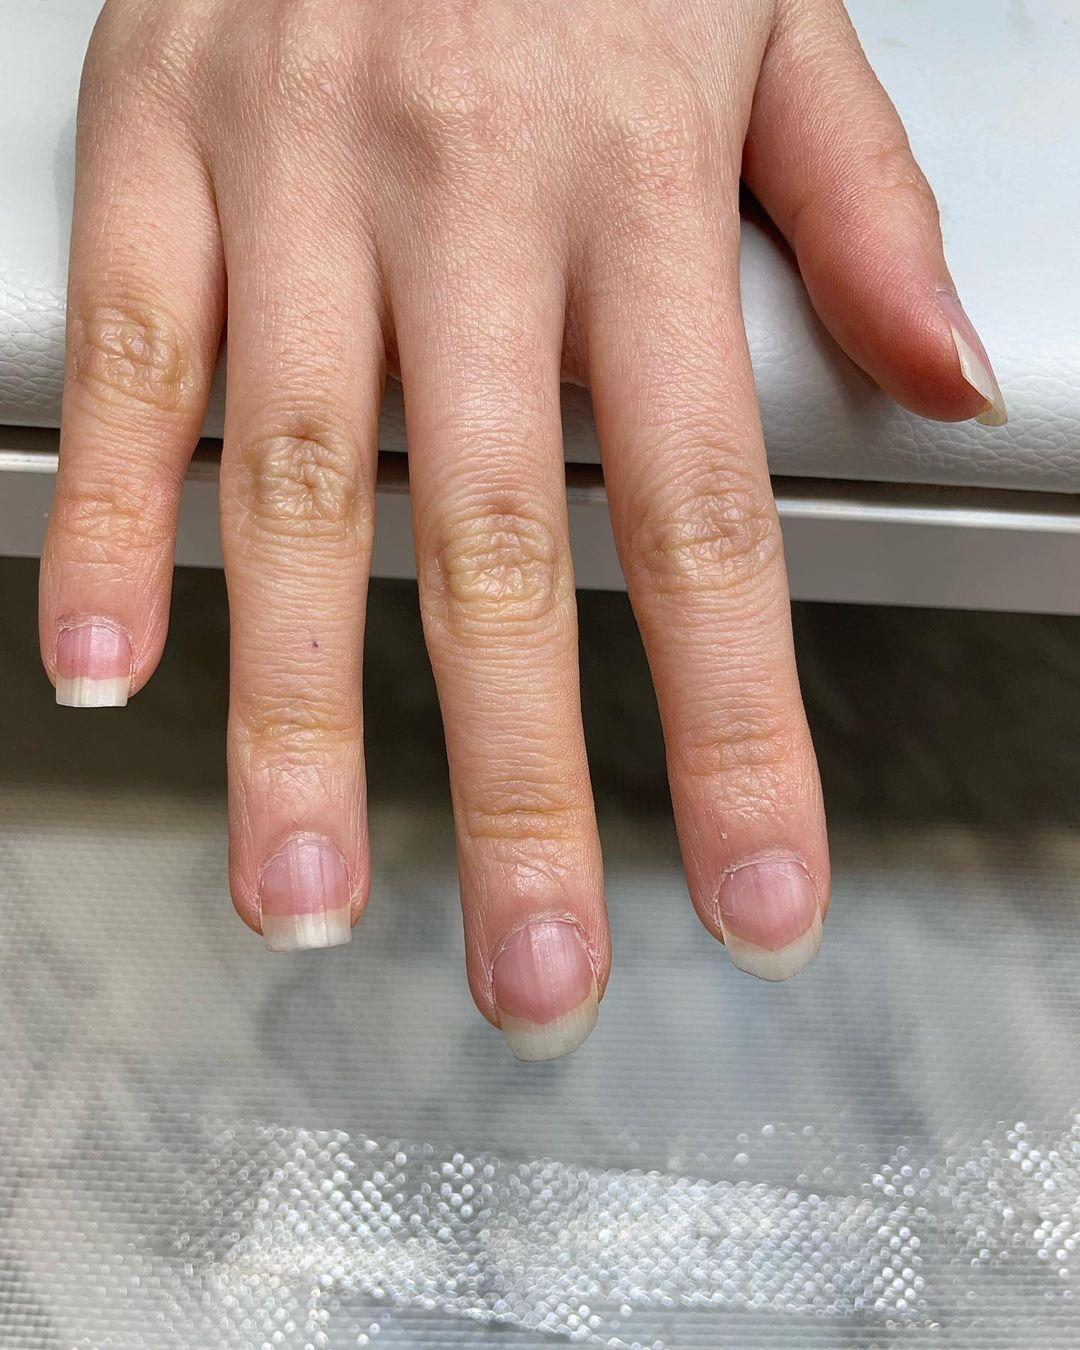nail: (488, 914, 601, 1063), (714, 847, 824, 982), (255, 830, 353, 952), (931, 291, 1007, 426), (50, 614, 134, 709)
